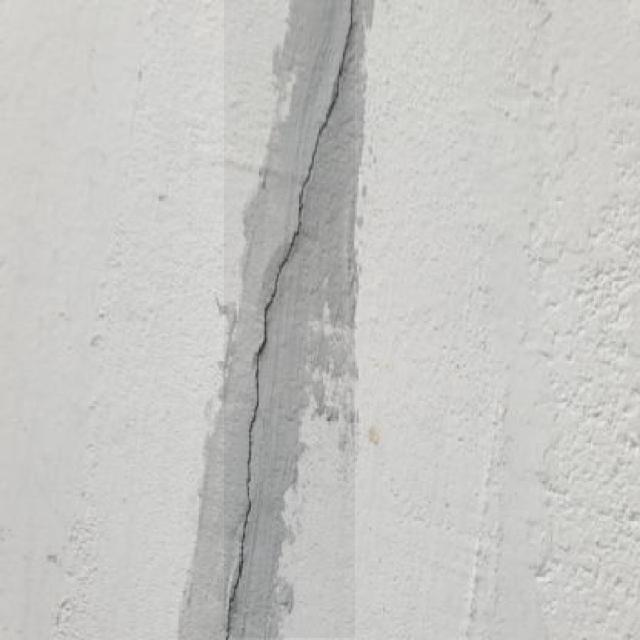diagonal crack: (224, 0, 354, 638)
